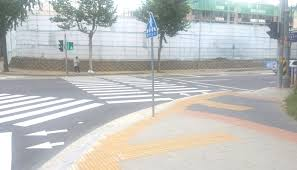guide_blocks: (122, 134, 230, 154), (80, 150, 122, 168), (192, 99, 247, 109)
